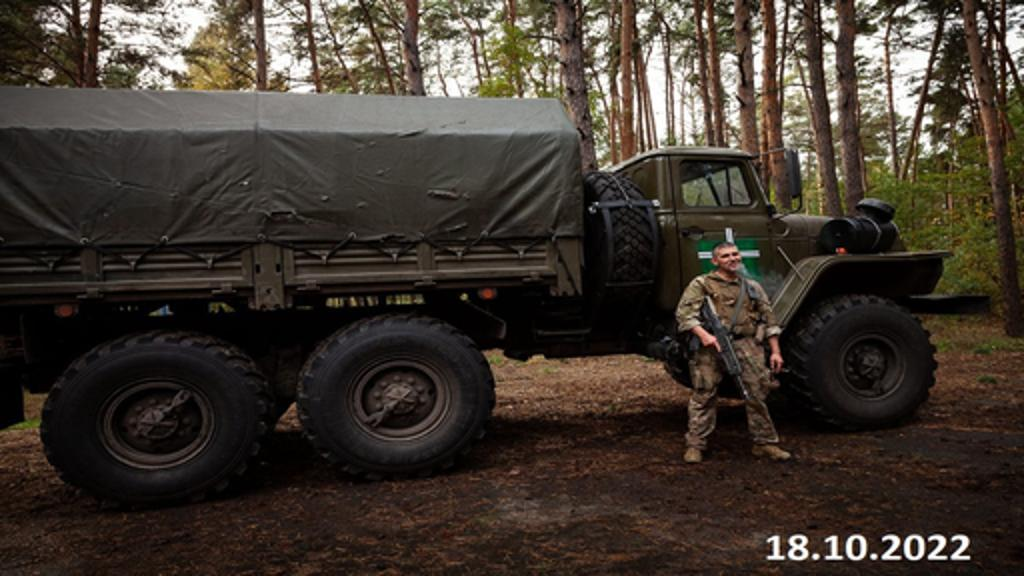TRUCK: (0, 80, 984, 498)
